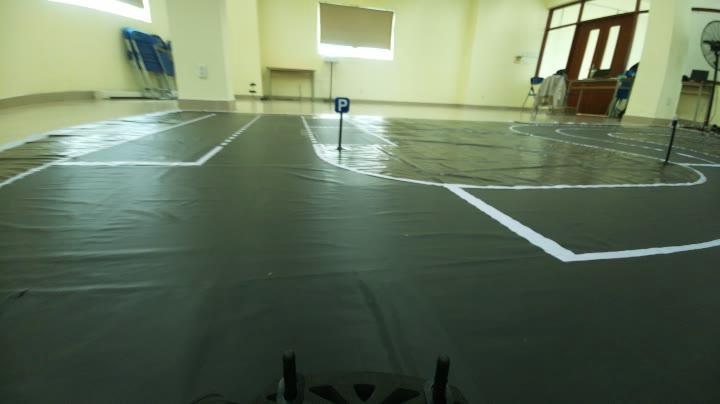parking: (325, 88, 354, 117)
